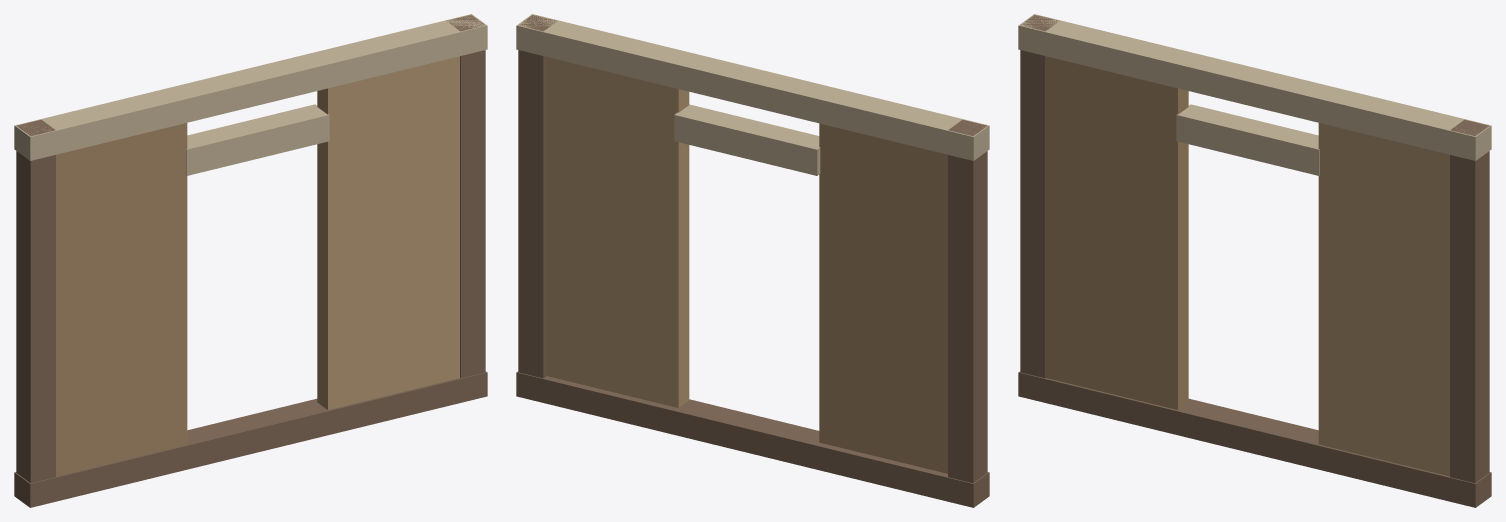
Rendered from wall_door.glb.
3 views of the same model, side by side, from view 1: azimuth 30°, elevation 25°; view 2: azimuth 150°, elevation 25°; view 3: azimuth 330°, elevation 25° (orthographic).
Visible parts, largest first — view 1: wall_door_5, wall_door_4, wall_door_2, wall_door_3, wall_door_0, wall_door_1, wall_door_6; view 2: wall_door_5, wall_door_4, wall_door_2, wall_door_3, wall_door_0, wall_door_1, wall_door_6; view 3: wall_door_4, wall_door_5, wall_door_2, wall_door_3, wall_door_1, wall_door_0, wall_door_6.
Boxes of the visible parts, <box> form: wall_door_5: <box>317,56,459,409</box>; wall_door_4: <box>56,123,187,476</box>; wall_door_2: <box>14,14,487,160</box>; wall_door_3: <box>14,371,487,507</box>; wall_door_0: <box>16,119,55,482</box>; wall_door_1: <box>446,15,485,378</box>; wall_door_6: <box>186,104,329,175</box>; wall_door_5: <box>546,57,689,408</box>; wall_door_4: <box>819,123,947,473</box>; wall_door_2: <box>516,14,989,160</box>; wall_door_3: <box>516,371,989,507</box>; wall_door_0: <box>948,119,987,482</box>; wall_door_1: <box>518,15,556,378</box>; wall_door_6: <box>674,104,820,175</box>; wall_door_4: <box>1046,56,1188,409</box>; wall_door_5: <box>1318,123,1449,476</box>; wall_door_2: <box>1018,14,1491,160</box>; wall_door_3: <box>1018,371,1491,507</box>; wall_door_1: <box>1450,119,1489,482</box>; wall_door_0: <box>1020,15,1058,378</box>; wall_door_6: <box>1176,104,1319,175</box>.
Size of the model in its own units: 4 by 3.1 by 0.24.
